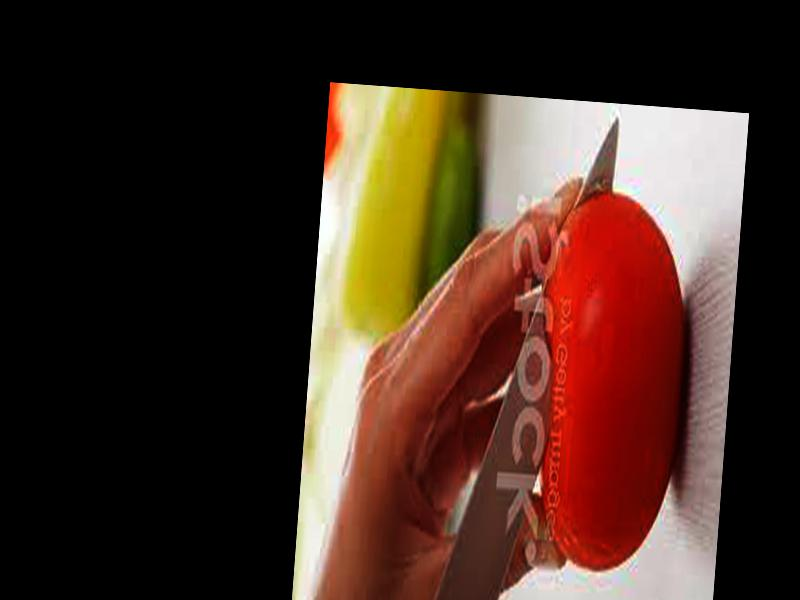Tomato: (525, 188, 700, 580)
